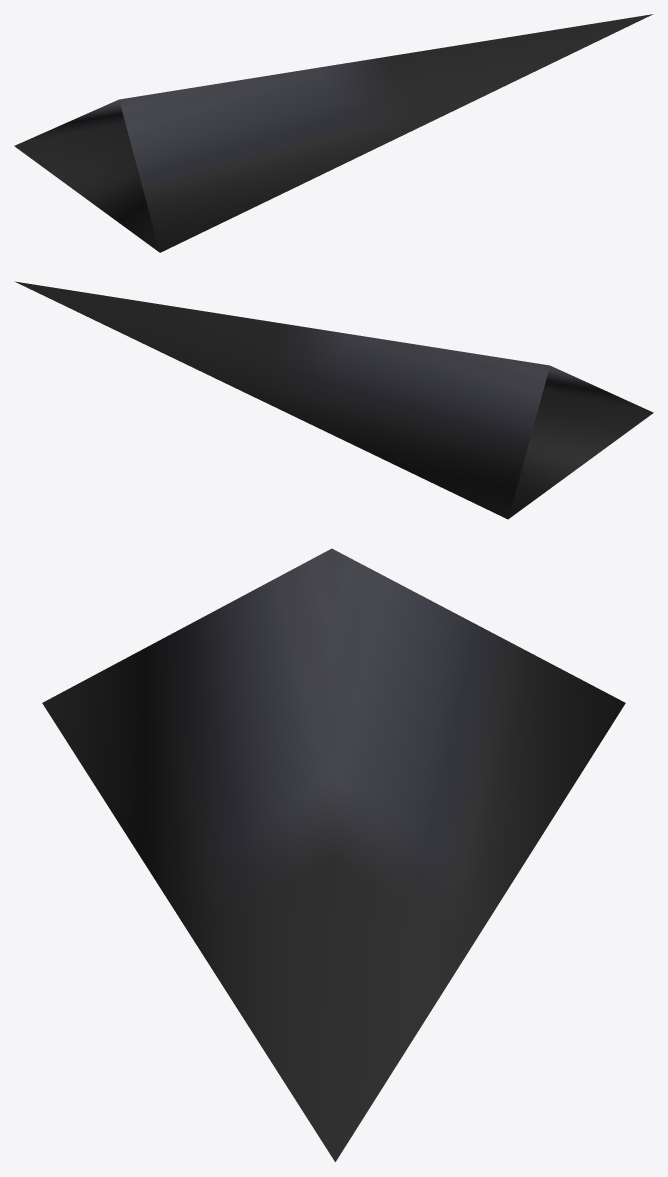
File: shaft_race_LFr_lod.dae
3 renders of one model, top to bottom at view 1: azimuth 30°, elevation 25°; view 2: azimuth 150°, elevation 25°; view 3: azimuth 270°, elevation 25°, orthographic. The views are drawn at different scales.
Visible parts, largest first — view 1: _0_0_node; view 2: _0_0_node; view 3: _0_0_node.
Boxes of the visible parts, left/top/right/bottom form: _0_0_node: left=14, top=14, right=653, bottom=252; _0_0_node: left=15, top=281, right=653, bottom=519; _0_0_node: left=42, top=548, right=625, bottom=1161.
Size of the model in its own units: 6.16 by 0.9611 by 2.75.
Materials: 1 (1 with a texture image).
